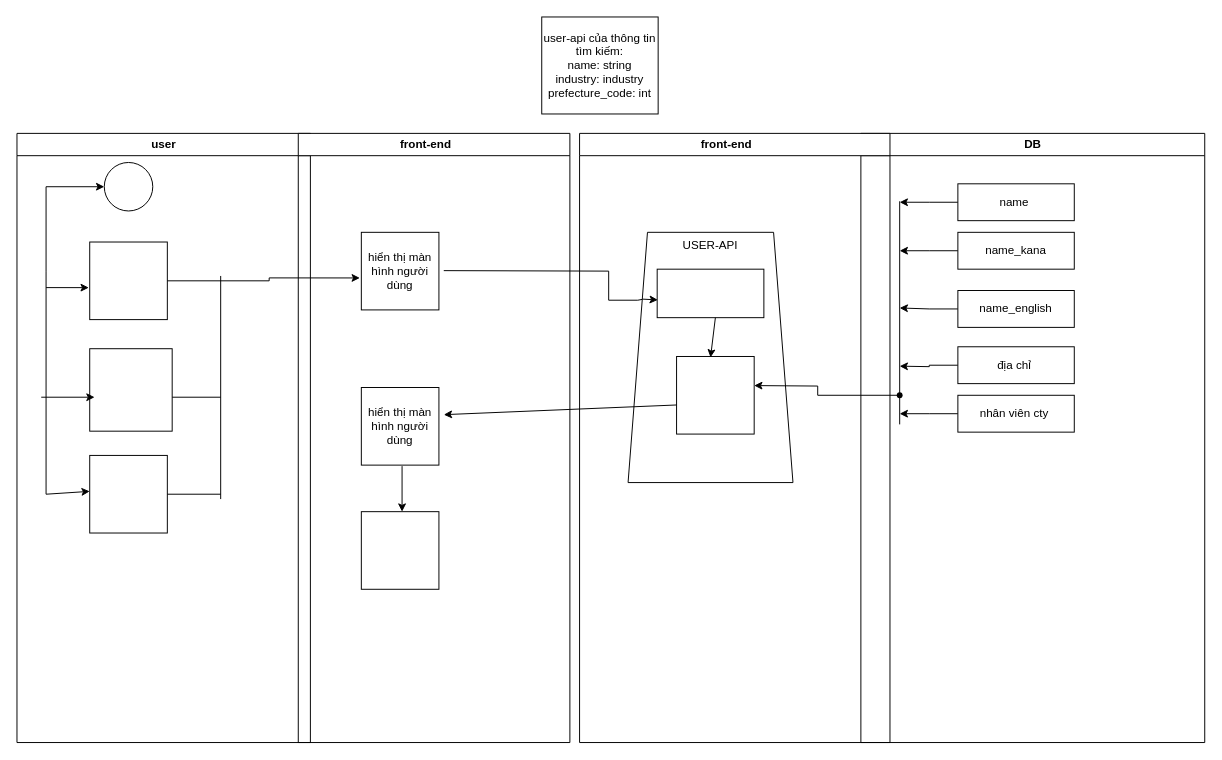
Some shapes in this 1222 by 760 pixel diagram are drawn without their labels. Each missing label, with the centre of its shape:
"bắt đầu" goes at pixel 128 186.
"cho người dùng nhập vào text box" goes at pixel 128 280.
"kết thúc" goes at pixel 399 550.
"nhận các key ( cty phù hợp)" goes at pixel 710 293.
"user chọn address" goes at pixel 128 493.
"user chọn các industry" goes at pixel 130 389.
"xác định các thông tin của từng cty list ra" goes at pixel 715 395.
